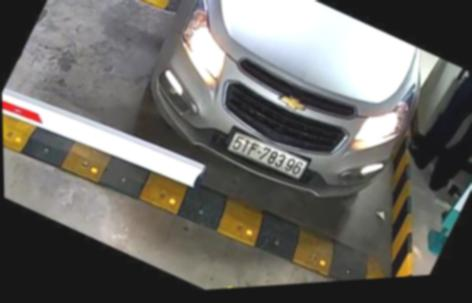License_Plate: (221, 121, 318, 190)
